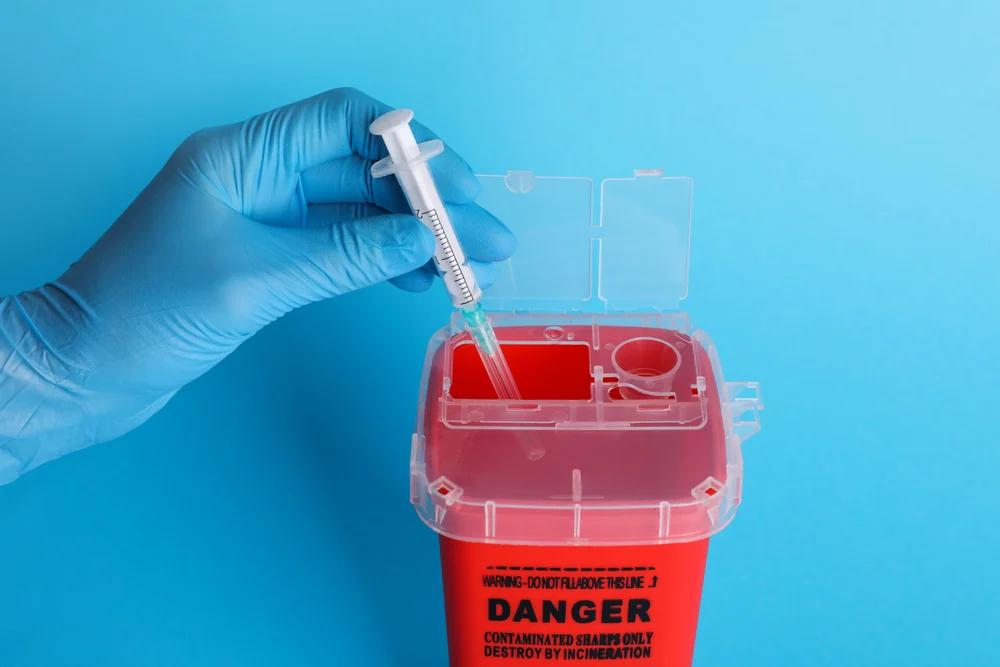Glove: (0, 89, 434, 483)
Syringe: (370, 109, 519, 399)
